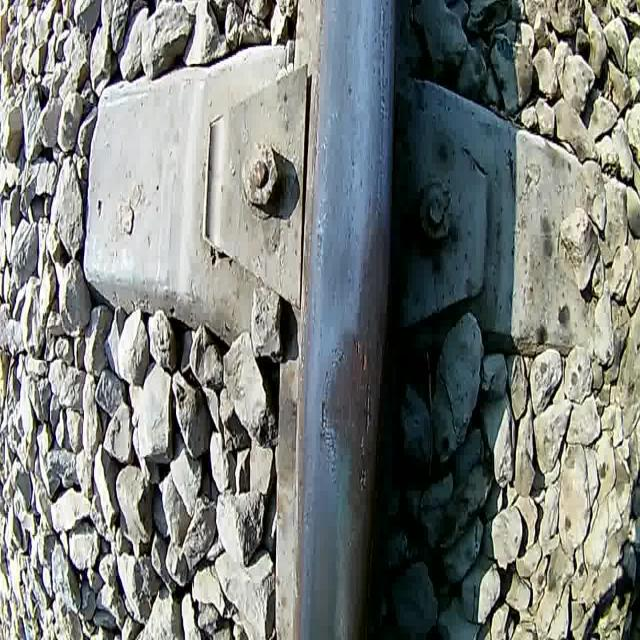Squats: (316, 321, 378, 508)
